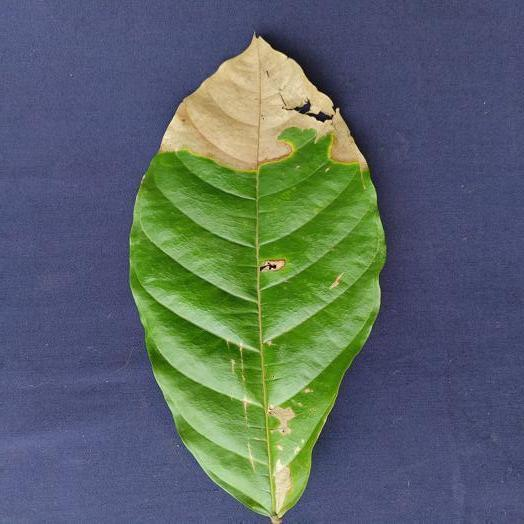Potassium: (130, 38, 384, 523)
